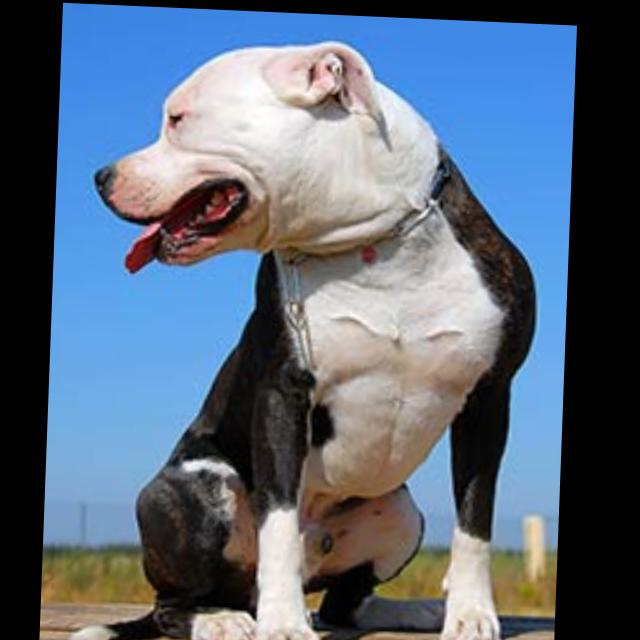am_pit_bull_terrier: (74, 29, 551, 640)
